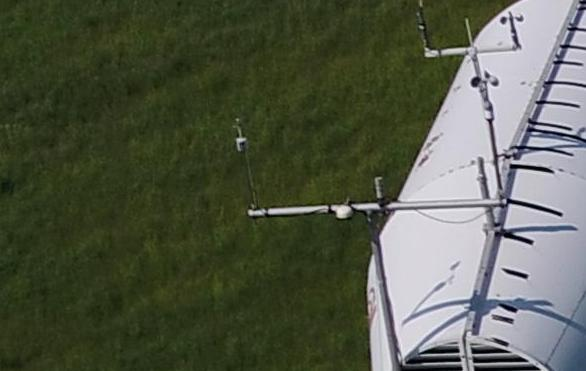damage: (421, 129, 445, 151), (419, 147, 438, 167)
